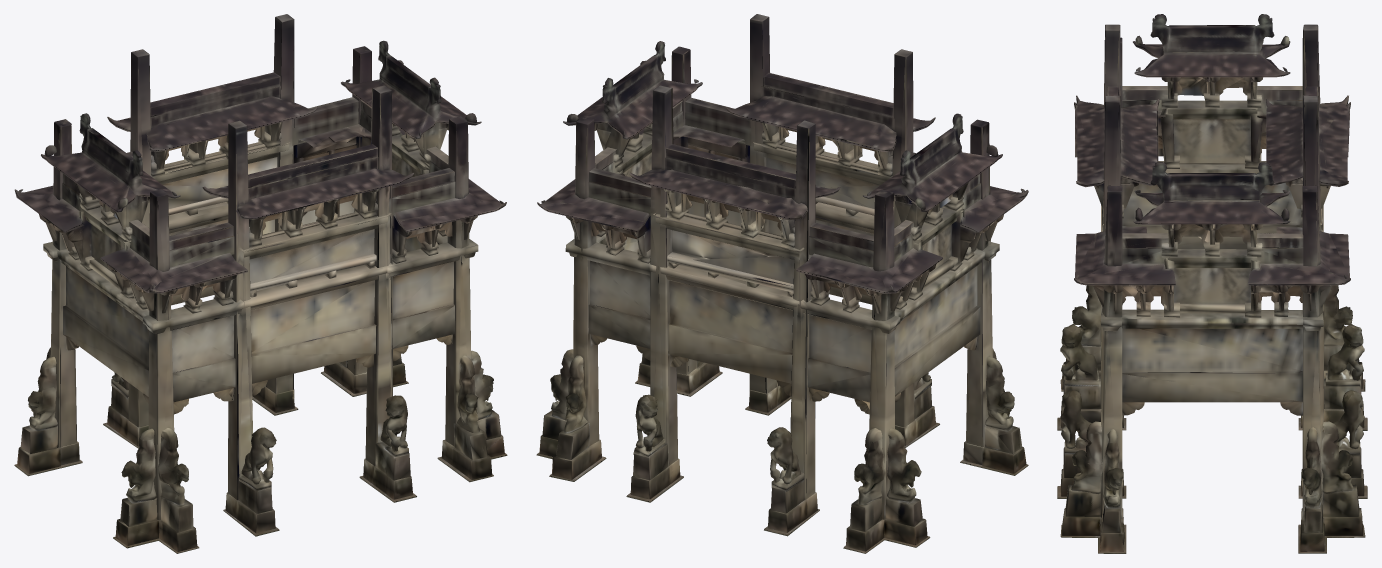
File: xuguo_paifang.glb
3 views of the same model, side by side, from view 1: azimuth 30°, elevation 25°; view 2: azimuth 150°, elevation 25°; view 3: azimuth 270°, elevation 25° (orthographic).
Visible parts, largest first — view 1: geometry_0; view 2: geometry_0; view 3: geometry_0.
Part boxes in pixels (x1=…): geometry_0: x1=14, y1=14, x2=507, y2=553; geometry_0: x1=536, y1=14, x2=1028, y2=553; geometry_0: x1=1057, y1=14, x2=1367, y2=553.
Size of the model in its own units: 0.9487 by 0.9292 by 0.6597.
1 material, 1 textured.
